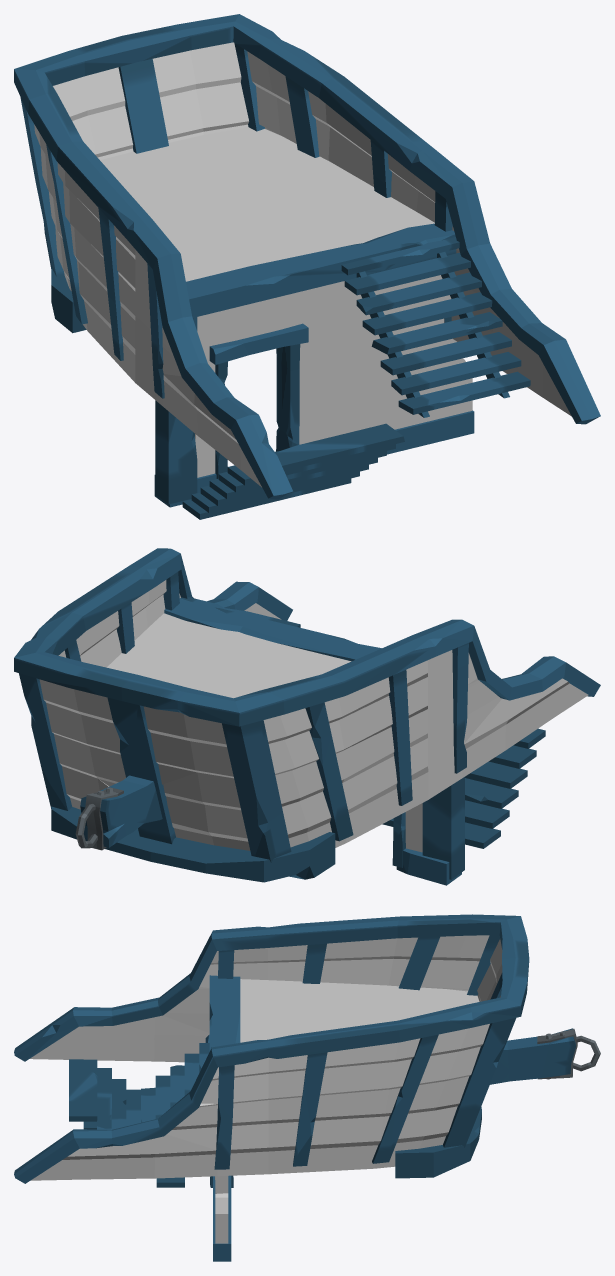
File: SM_Veh_Ship_S_Back_03.fbx
The picture shows the model from 3 angles, top to bottom: view 1: azimuth 30°, elevation 25°; view 2: azimuth 150°, elevation 25°; view 3: azimuth 270°, elevation 25°; orthographic projection. The views are drawn at different scales.
Visible parts, largest first — view 1: SM_Veh_Ship_S_Back_03; view 2: SM_Veh_Ship_S_Back_03; view 3: SM_Veh_Ship_S_Back_03.
Part boxes in pixels (x1,y1,x2,y2): SM_Veh_Ship_S_Back_03: (14, 14, 600, 519); SM_Veh_Ship_S_Back_03: (14, 548, 600, 885); SM_Veh_Ship_S_Back_03: (14, 914, 600, 1261).
Bounding box in the file's own units: 538 × 456 × 1008.
